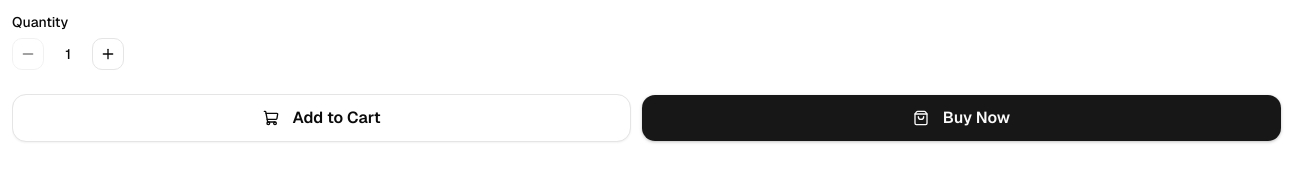
quantity controls › increment button becomes disabled at maximum
Click the button named "increase quantity" at (108, 54), box [92,38,124,70]
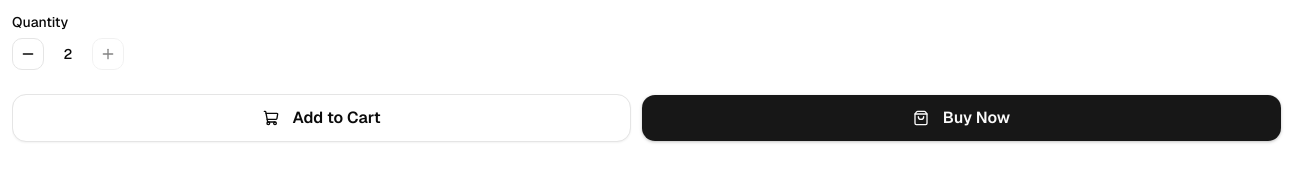
Check: the button named "increase quantity" is disabled, box [92,38,124,70]
